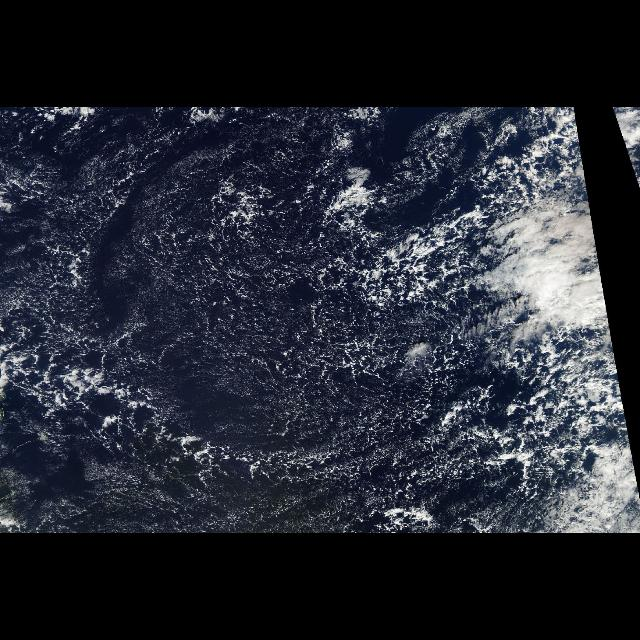Gravel: (4, 117, 576, 526)
